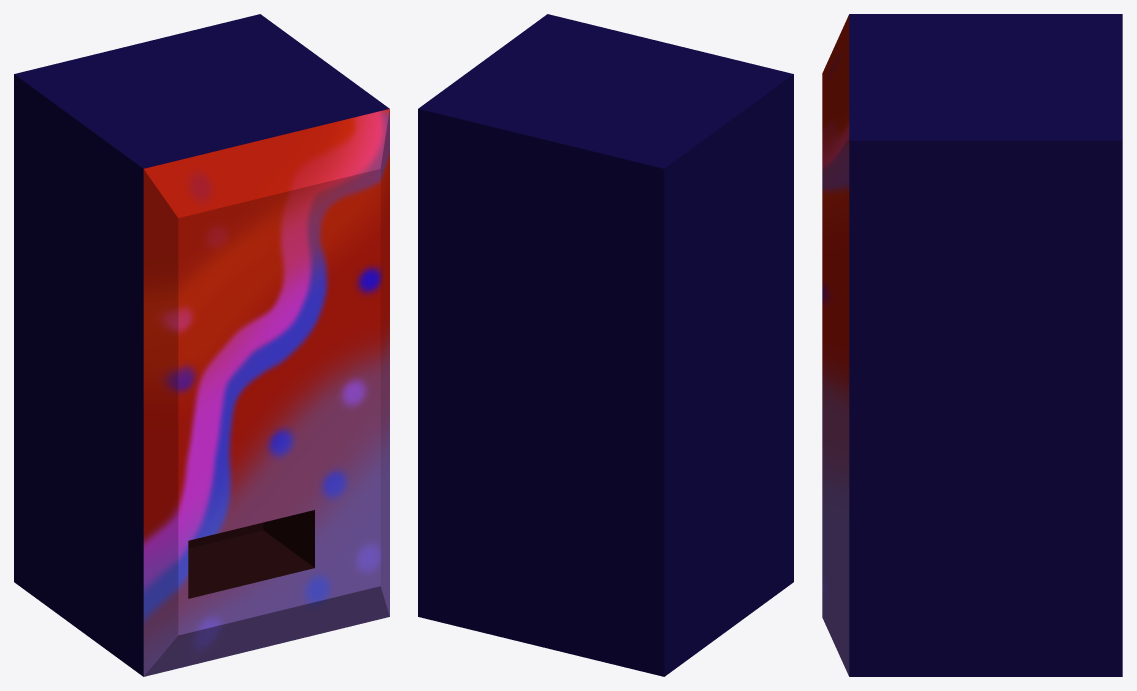
Rendered from vending.glb.
3 renders of one model, left to right at view 1: azimuth 30°, elevation 25°; view 2: azimuth 150°, elevation 25°; view 3: azimuth 270°, elevation 25°, orthographic. The views are drawn at different scales.
Parts seen in each view (by area): view 1: vending.001; view 2: vending.001; view 3: vending.001.
Part boxes in pixels (left/top/right/bottom): vending.001: left=14, top=14, right=389, bottom=676; vending.001: left=418, top=14, right=793, bottom=676; vending.001: left=822, top=14, right=1122, bottom=676.
Bounding box in the file's own units: 8.86 × 17.46 × 8.86.
Materials: 3 (1 with a texture image).
